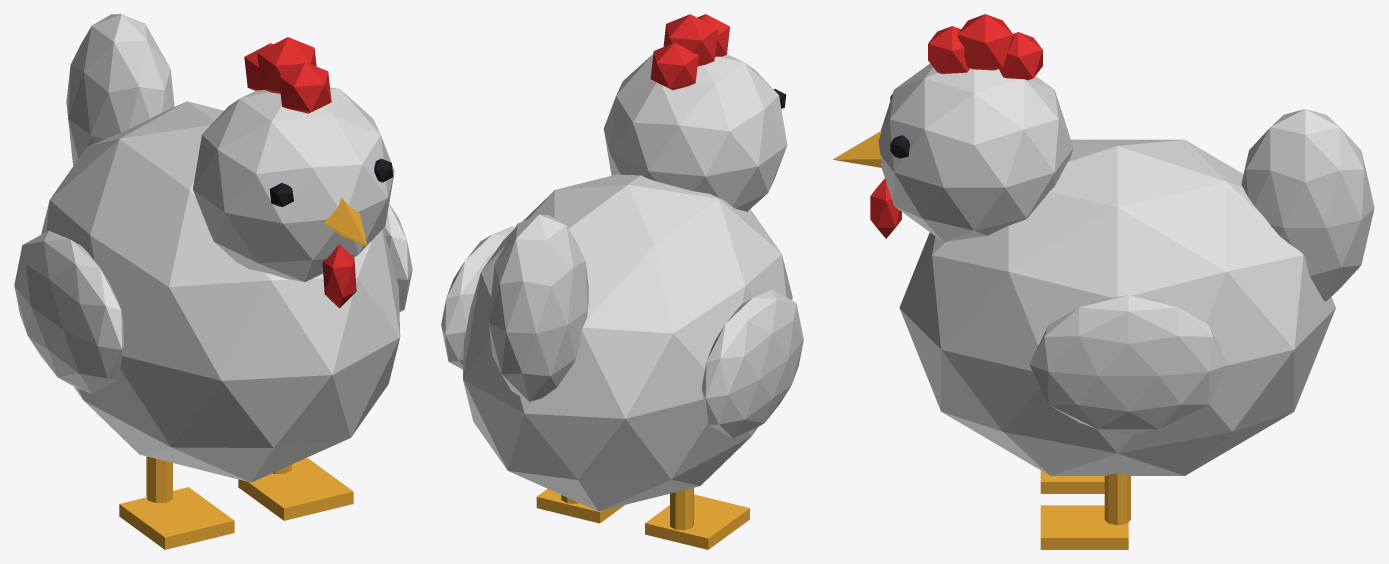
The model's file is Chicken.fbx.
3 views of the same model, side by side, from view 1: azimuth 30°, elevation 25°; view 2: azimuth 150°, elevation 25°; view 3: azimuth 270°, elevation 25° (orthographic). The views are drawn at different scales.
Parts seen in each view (by area): view 1: Feathers, Legs, Comb, Beak, Eyes; view 2: Feathers, Legs, Comb; view 3: Feathers, Comb, Legs, Beak.
Part boxes in pixels (<box>): Feathers: <box>14,14,412,482</box>; Legs: <box>119,456,353,549</box>; Comb: <box>244,37,356,308</box>; Beak: <box>323,197,367,246</box>; Eyes: <box>269,158,393,206</box>; Feathers: <box>441,54,803,511</box>; Legs: <box>536,487,749,549</box>; Comb: <box>650,14,729,90</box>; Feathers: <box>878,63,1374,475</box>; Comb: <box>870,14,1042,238</box>; Legs: <box>1040,470,1130,549</box>; Beak: <box>833,130,882,167</box>.
Bounding box in the file's own units: 1.68 × 2.46 × 2.46.
